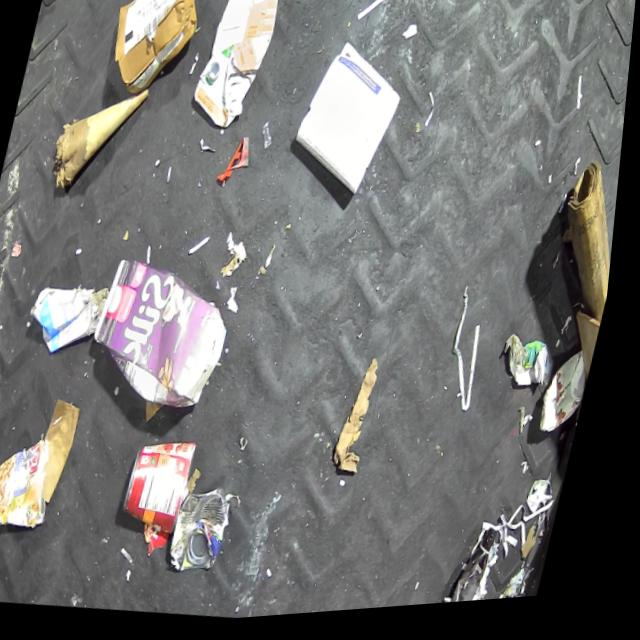can: (125, 433, 207, 539), (0, 430, 72, 533), (173, 482, 247, 581), (543, 354, 602, 451)
non_white_jug: (84, 250, 247, 423), (187, 0, 285, 133)
